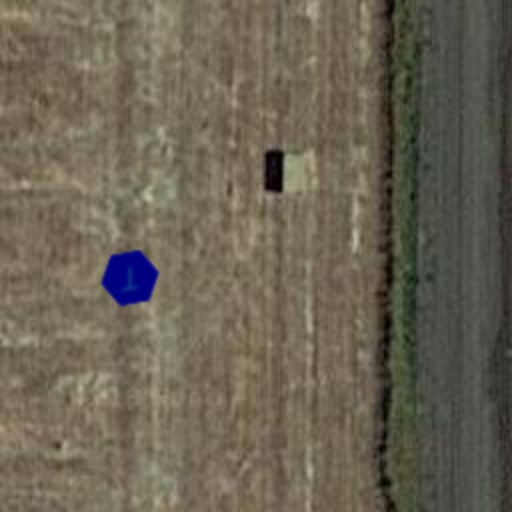hexagon: (94, 242, 166, 314)
